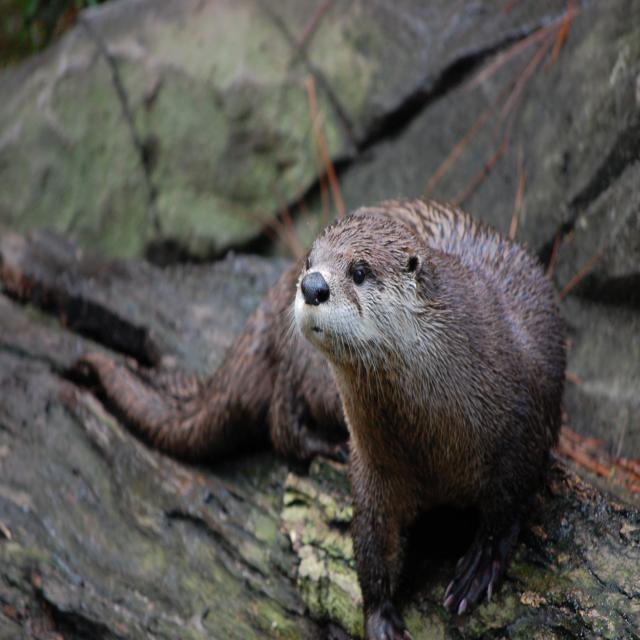otter: (292, 198, 562, 605)
